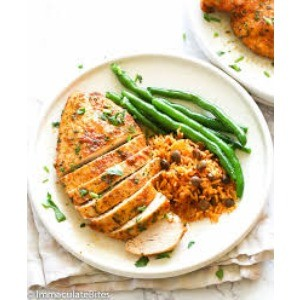chicken breast_brain food: (65, 130, 137, 205)
